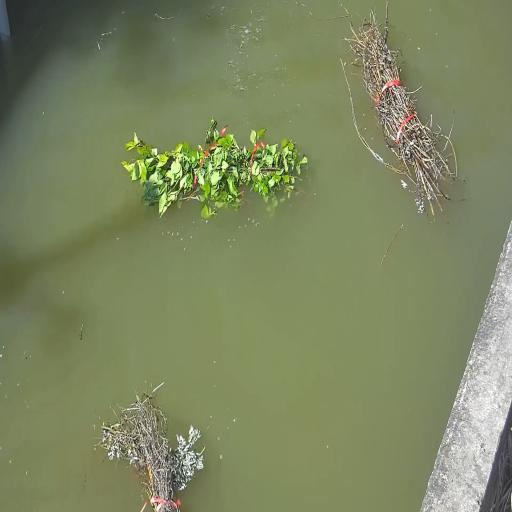twig: (338, 0, 456, 216), (126, 112, 312, 224), (92, 383, 206, 512)
